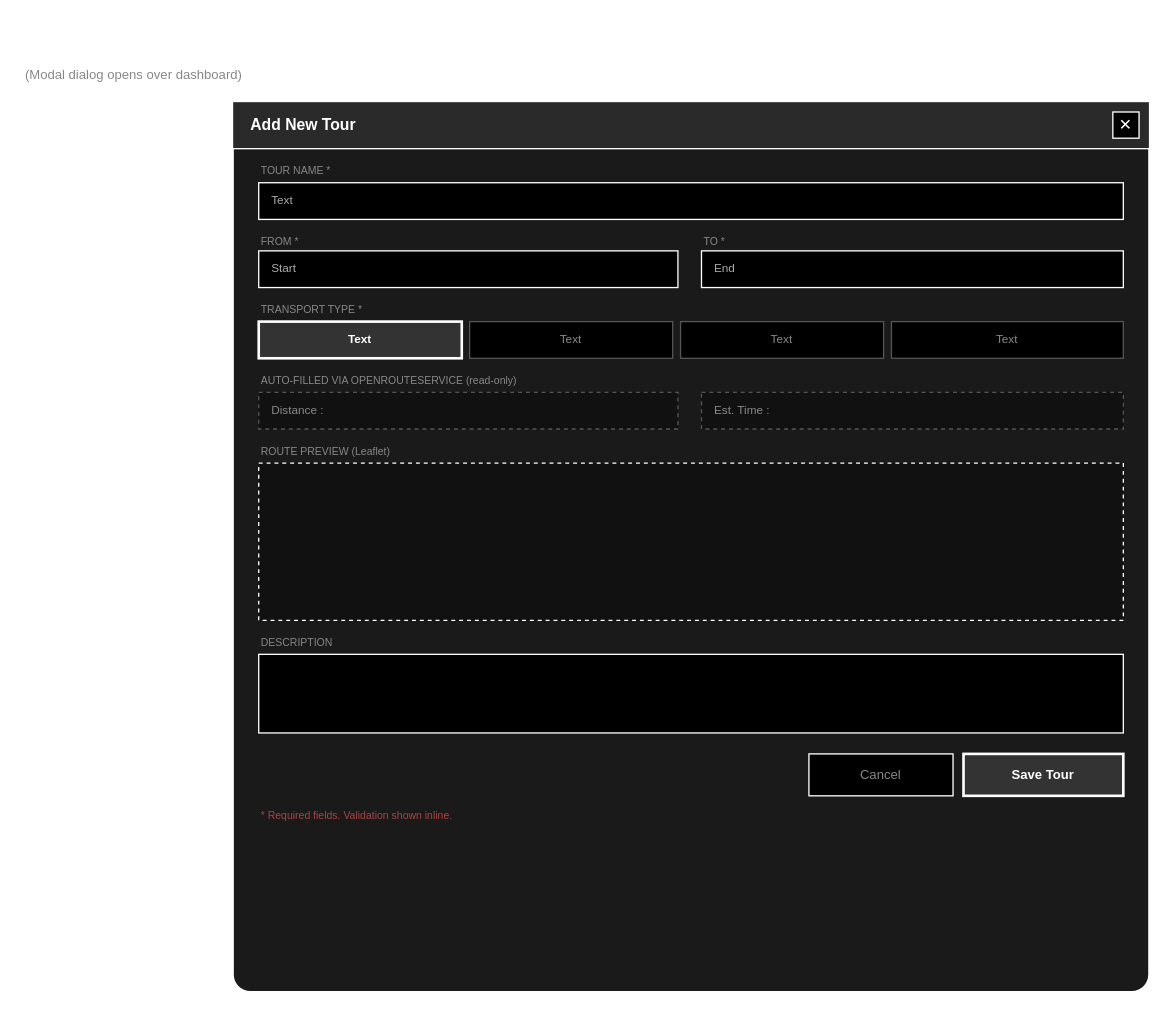
Some shapes in this 1172 by 1015 pixel diagram are drawn without their labels. Each missing label, with the centre of its shape:
[ Map loads after From/To are entered ]: the point at 690,541
Optional description...: the point at 690,693
